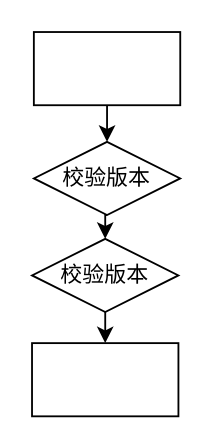
Image size: 212x448. Some labels were removed from this diagram. Here are the shapes that lost their labels. From the top down, the centre of each, then its label:
At point (106, 67): "开始验签".
At point (104, 378): "结束验签".
